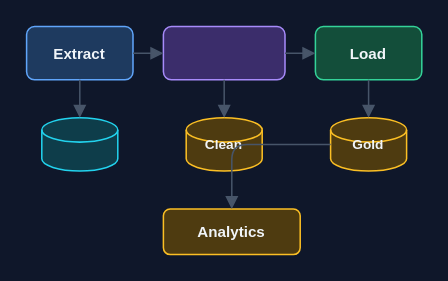
Image size: 448x281. Some labels were removed from this diagram. The centre of each missing label's shape, as x and y in pixels:
Raw: the point at 79,143
Transform: the point at 223,52
